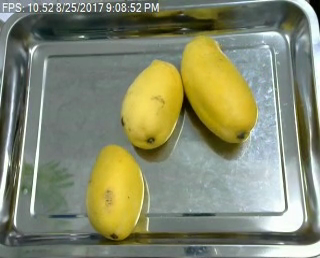Mango: (180, 35, 260, 145), (115, 57, 186, 150), (86, 144, 147, 241)
